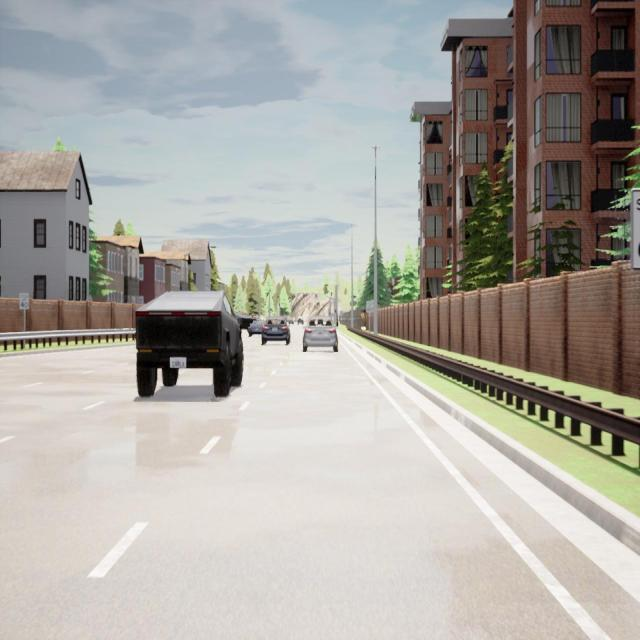Traffic_Signs: (628, 188, 640, 268), (19, 294, 29, 309), (366, 301, 375, 313)
Vehicle: (136, 291, 243, 397), (302, 317, 338, 352), (262, 317, 290, 345), (248, 317, 263, 337), (236, 314, 256, 329), (296, 316, 304, 326), (289, 319, 294, 325)
traffic_light: (315, 293, 317, 299), (303, 293, 305, 298), (331, 292, 332, 296), (335, 310, 336, 313), (294, 294, 294, 298)
